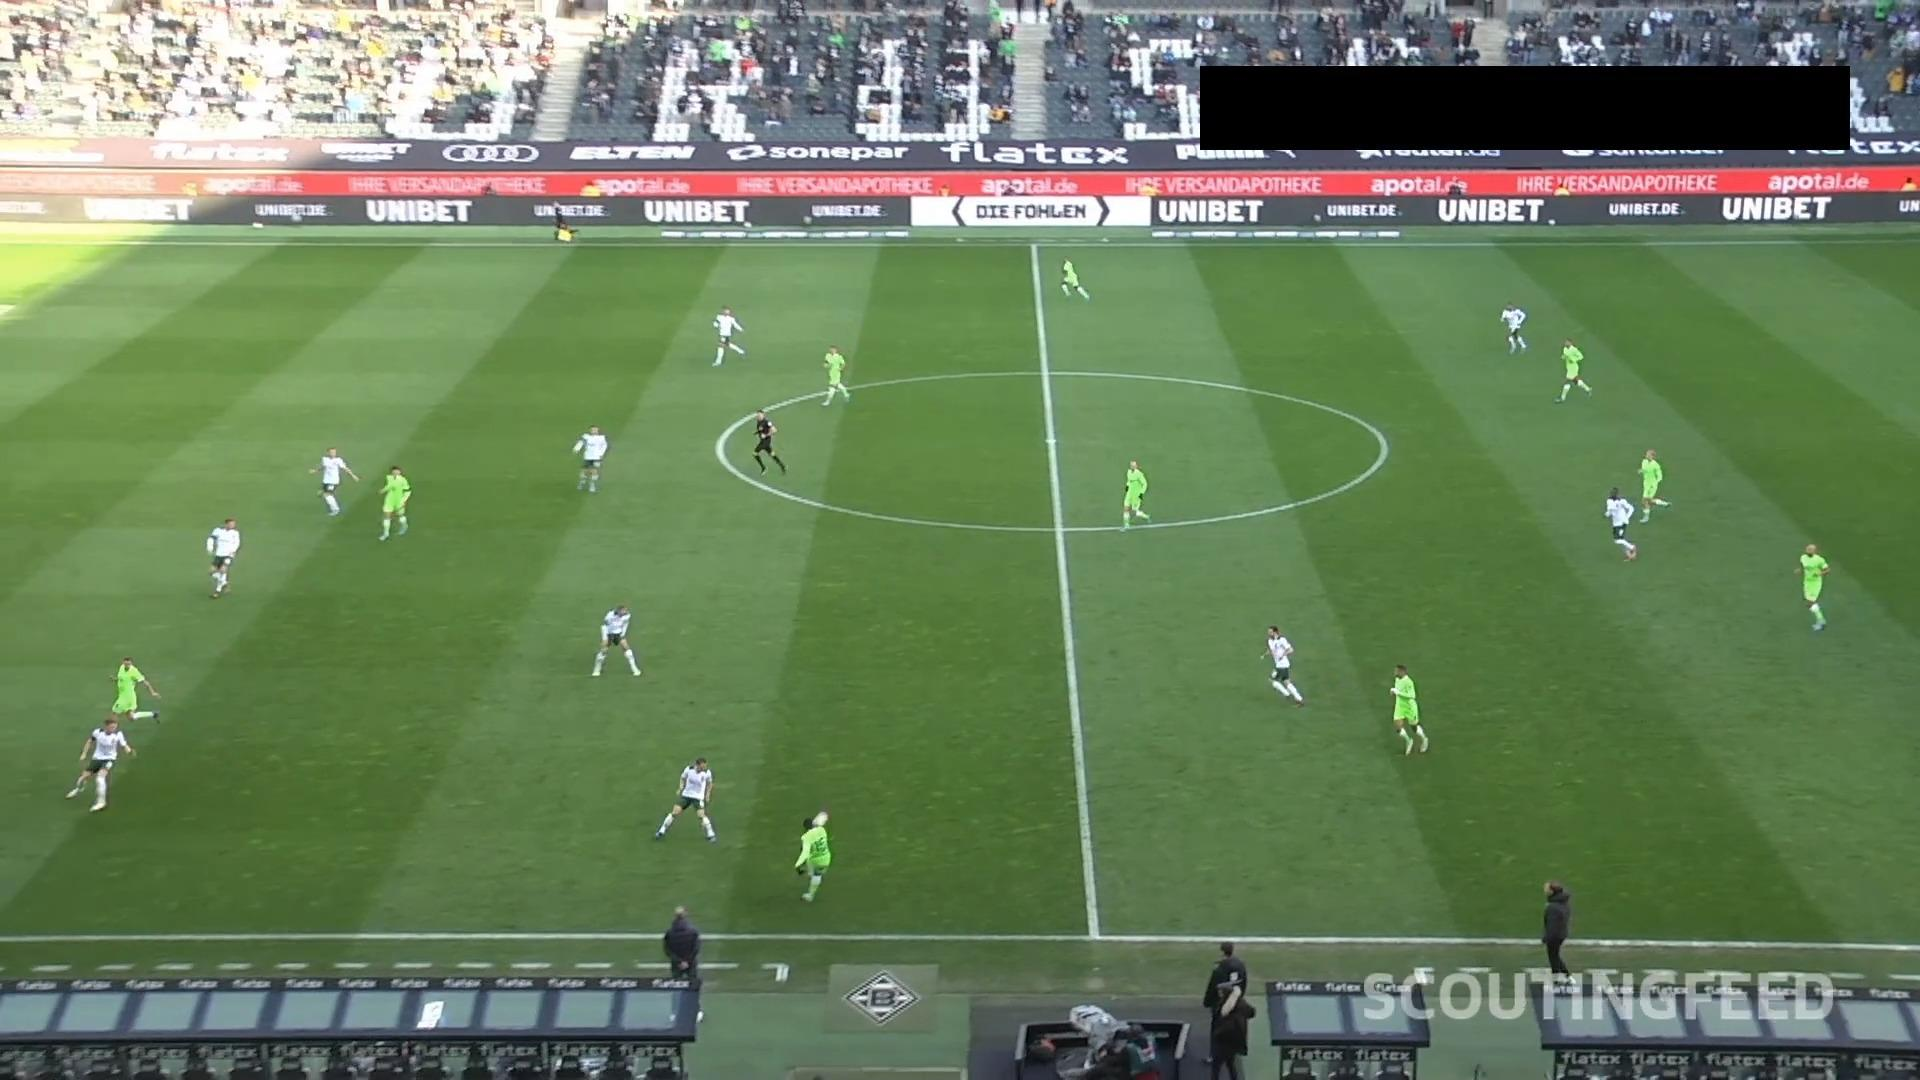ball: (812, 811, 828, 826)
coach: (661, 904, 704, 1022), (1540, 879, 1573, 984)
player: (63, 715, 134, 811), (653, 756, 717, 842), (590, 604, 641, 677), (1388, 663, 1428, 755), (1259, 624, 1304, 705), (307, 446, 359, 516), (792, 810, 831, 901), (108, 656, 160, 723), (1793, 541, 1829, 631), (205, 517, 240, 598), (1636, 447, 1671, 523), (376, 465, 411, 540), (1603, 485, 1637, 561), (571, 424, 608, 492), (1554, 337, 1591, 402), (1120, 459, 1150, 530), (711, 306, 745, 366), (820, 345, 850, 406), (1499, 301, 1527, 354), (1058, 257, 1089, 300)
referee: (1201, 941, 1252, 1078), (750, 408, 786, 475), (551, 200, 574, 242)
